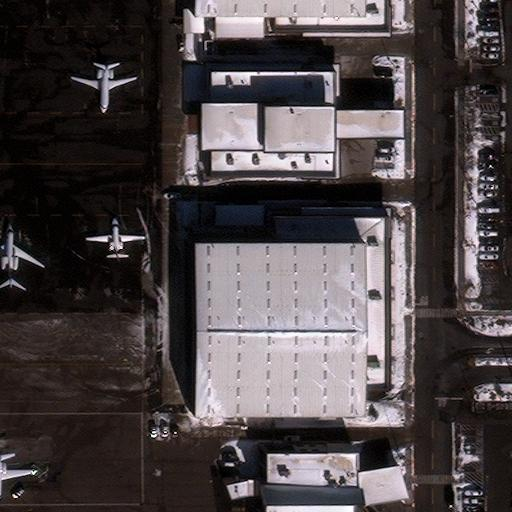Medium Civil Transport: (71, 64, 137, 113), (0, 225, 41, 286), (86, 218, 144, 259), (0, 453, 34, 500)
